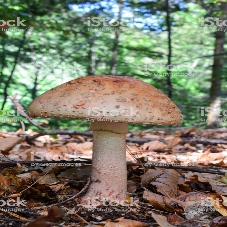mushroom: (27, 72, 182, 209)
